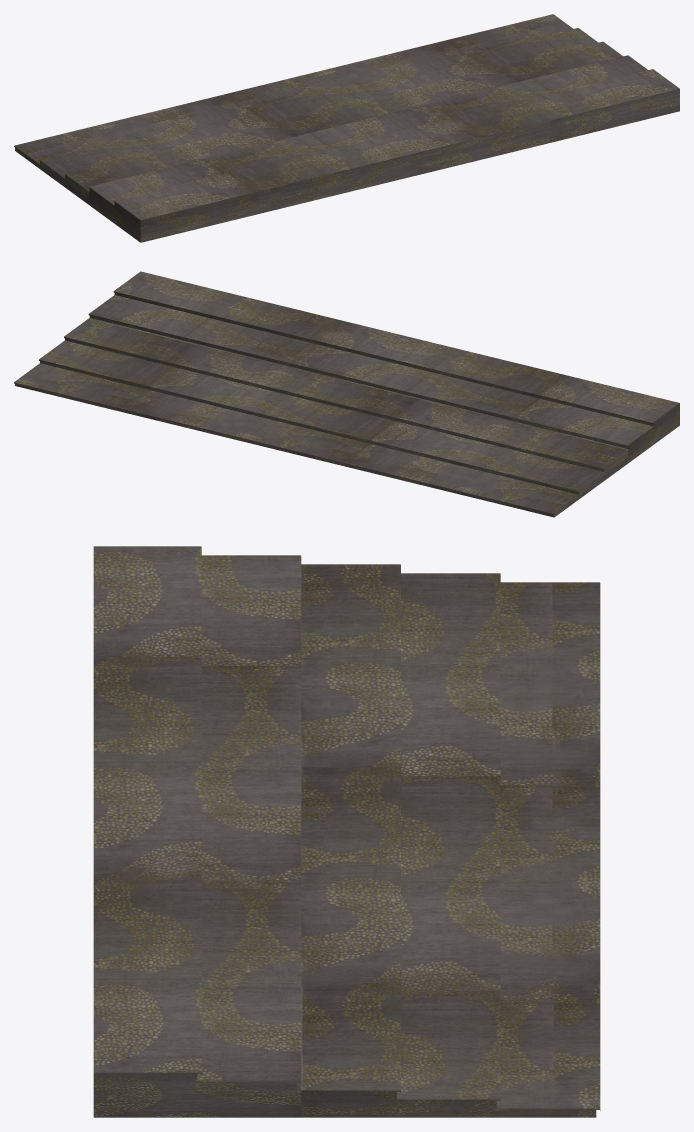
File: stairs.gltf
3 renders of one model, top to bottom at view 1: azimuth 30°, elevation 25°; view 2: azimuth 150°, elevation 25°; view 3: azimuth 270°, elevation 25°, orthographic. The views are drawn at different scales.
Parts seen in each view (by area): view 1: stairs_layer_5, stairs_layer_4, stairs_layer_3, stairs_layer_2, stairs_layer_1; view 2: stairs_layer_5, stairs_layer_4, stairs_layer_3, stairs_layer_2, stairs_layer_1; view 3: stairs_layer_5, stairs_layer_4, stairs_layer_3, stairs_layer_2, stairs_layer_1.
Boxes of the visible parts, x1,y1,x2,y2 form: stairs_layer_5: (113, 69, 679, 242); stairs_layer_4: (88, 55, 647, 223); stairs_layer_3: (64, 41, 623, 204); stairs_layer_2: (39, 28, 597, 186); stairs_layer_1: (14, 14, 573, 168); stairs_layer_5: (113, 271, 679, 444); stairs_layer_4: (88, 295, 653, 462); stairs_layer_3: (64, 318, 628, 480); stairs_layer_2: (39, 340, 604, 498); stairs_layer_1: (14, 363, 579, 517); stairs_layer_5: (93, 546, 201, 1117); stairs_layer_4: (197, 555, 301, 1117); stairs_layer_3: (297, 564, 400, 1117); stairs_layer_2: (397, 573, 500, 1117); stairs_layer_1: (496, 582, 600, 1117).
Size of the model in its own units: 14.99 by 0.6 by 6.1.
Materials: 5 (5 with a texture image).
